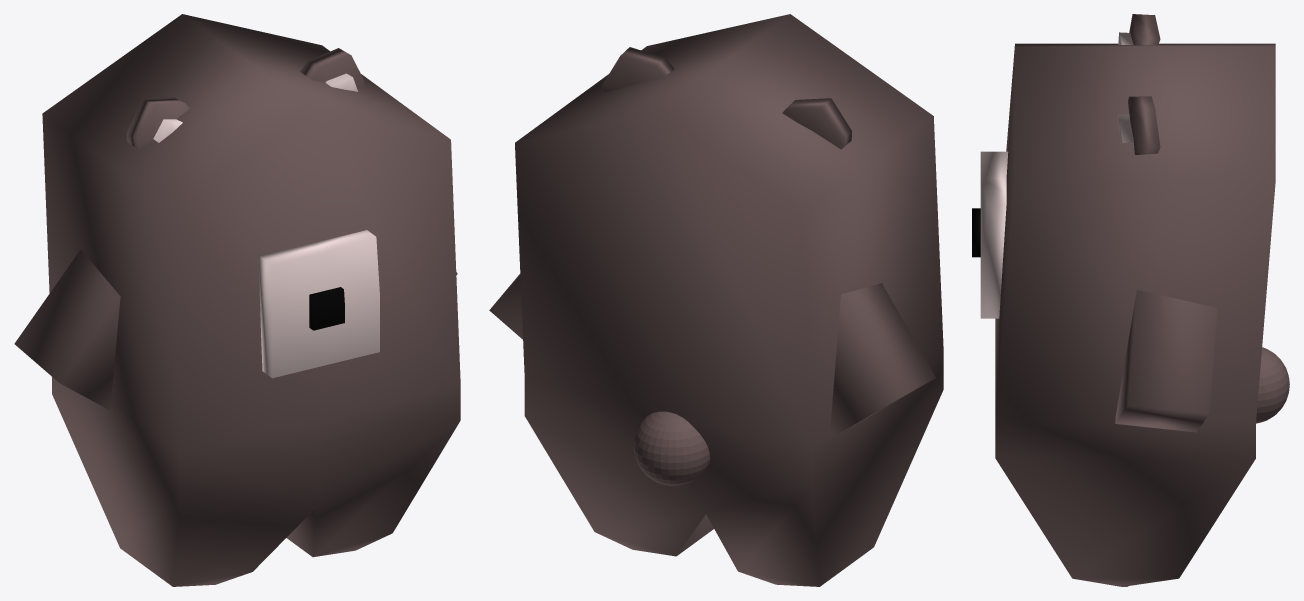
File: sample_bear_small.glb
The picture shows the model from 3 angles, left to right: view 1: azimuth 30°, elevation 25°; view 2: azimuth 150°, elevation 25°; view 3: azimuth 270°, elevation 25°; orthographic projection. The views are drawn at different scales.
Visible parts, largest first — view 1: Cube, Cube.002, Cube.007, Cube.004, Cube.005, Cube.003; view 2: Cube, Cube.007, 球, Cube.004, Cube.005, Cube.006; view 3: Cube, Cube.006, Cube.002, Cube.005, 球, Cube.004, Cube.003.
Boxes of the visible parts, bbox=[...] form: Cube: bbox=[42, 14, 460, 586]; Cube.002: bbox=[258, 230, 379, 378]; Cube.007: bbox=[14, 249, 120, 410]; Cube.004: bbox=[126, 97, 189, 149]; Cube.005: bbox=[300, 48, 364, 91]; Cube.003: bbox=[309, 287, 344, 330]; Cube: bbox=[515, 14, 943, 586]; Cube.007: bbox=[830, 283, 935, 435]; 球: bbox=[633, 411, 710, 485]; Cube.004: bbox=[782, 98, 851, 149]; Cube.005: bbox=[601, 47, 674, 92]; Cube.006: bbox=[489, 274, 522, 339]; Cube: bbox=[995, 43, 1275, 586]; Cube.006: bbox=[1115, 290, 1217, 432]; Cube.002: bbox=[980, 151, 1008, 318]; Cube.005: bbox=[1118, 96, 1160, 154]; 球: bbox=[1256, 347, 1289, 423]; Cube.004: bbox=[1118, 14, 1160, 45]; Cube.003: bbox=[972, 208, 980, 257].
Size of the model in its own units: 0.525 by 0.5959 by 0.3529.
